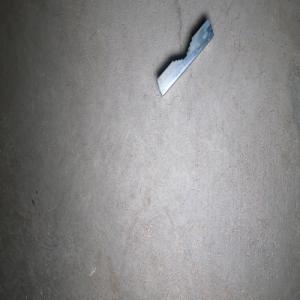ClampPart: (156, 17, 214, 97)
